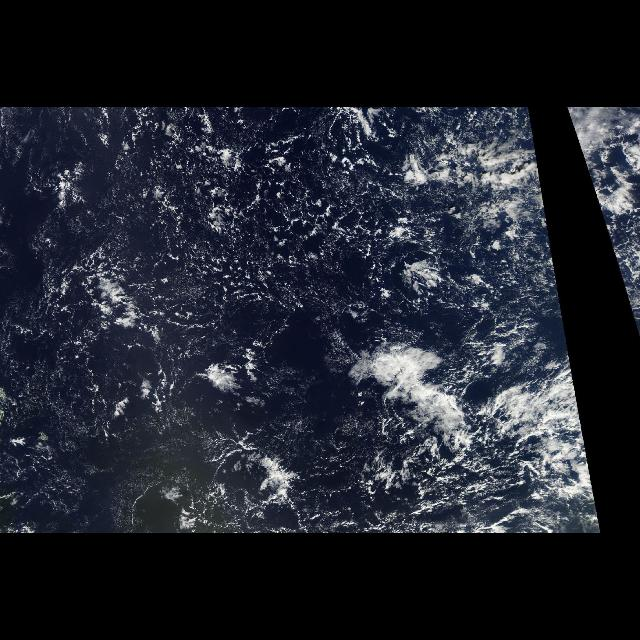Gravel: (8, 109, 520, 533)
